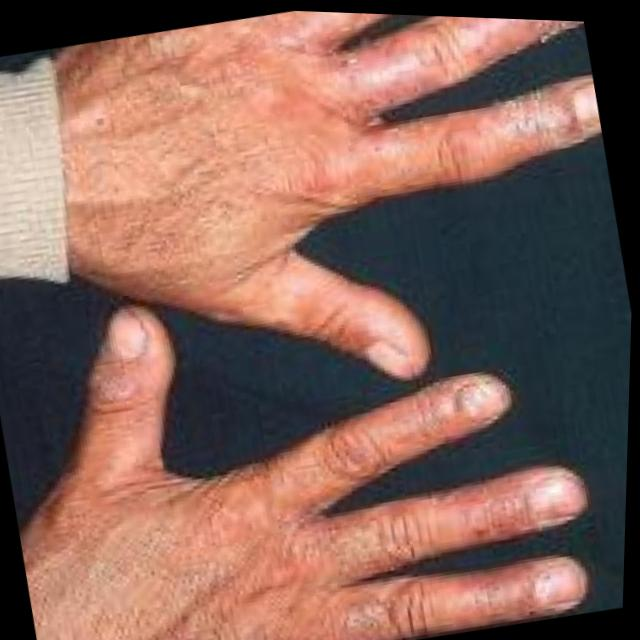Eczema: (244, 426, 524, 640), (329, 12, 590, 199)
